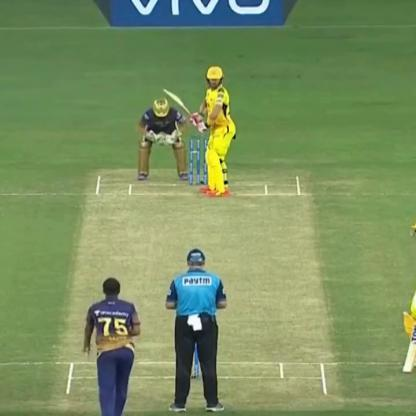bat: (159, 86, 204, 130)
pitch: (58, 166, 348, 414)
